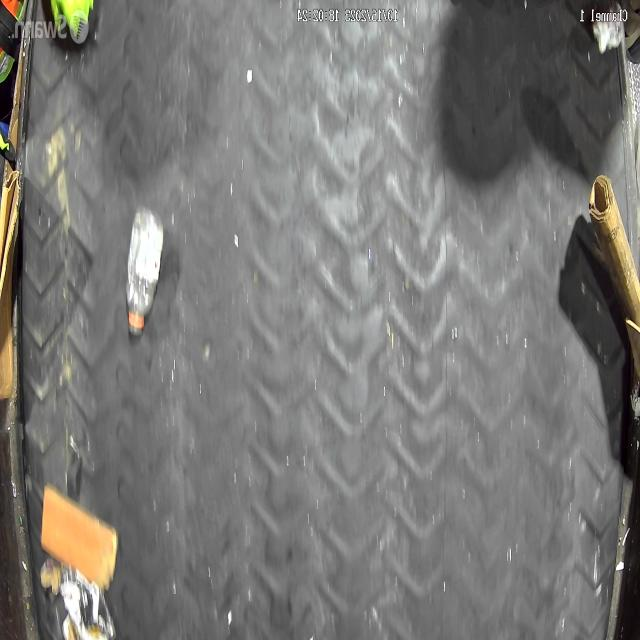plastic_bottle: (125, 205, 164, 336)
